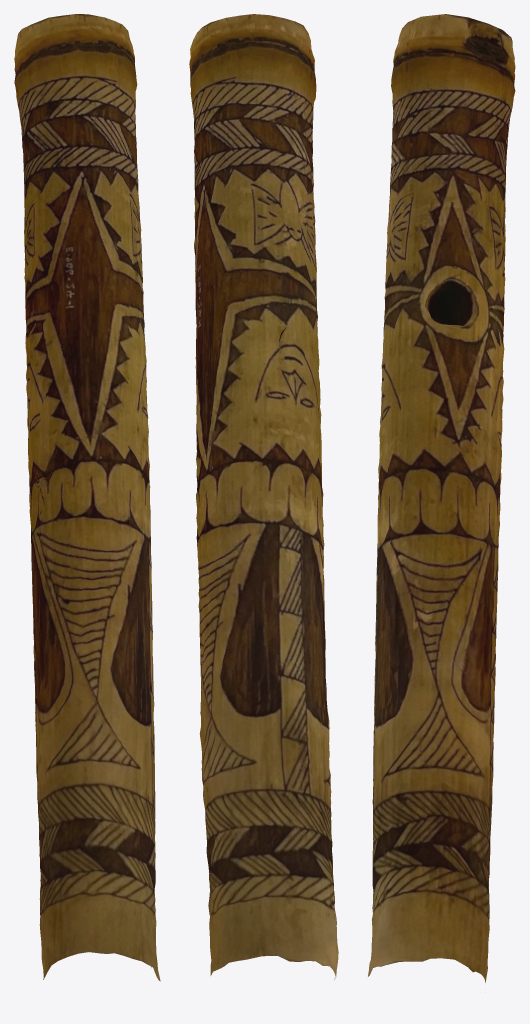
Rendered from papua_fuu.glb.
The picture shows the model from 3 angles, left to right: view 1: azimuth 90°, elevation 25°; view 2: azimuth 150°, elevation 25°; view 3: azimuth 270°, elevation 25°; orthographic projection.
Parts seen in each view (by area): view 1: Object_4; view 2: Object_4; view 3: Object_4.
Part boxes in pixels (<box>): Object_4: <box>14,14,160,981</box>; Object_4: <box>189,14,338,979</box>; Object_4: <box>368,14,515,982</box>.
Bounding box in the file's own units: 0.1764 × 1.36 × 0.1905.
Materials: 1 (1 with a texture image).
